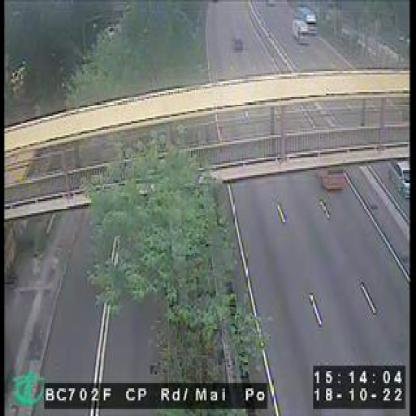Car: (392, 158, 411, 198), (318, 166, 347, 192), (232, 36, 245, 54)
Truck: (292, 19, 310, 46)
